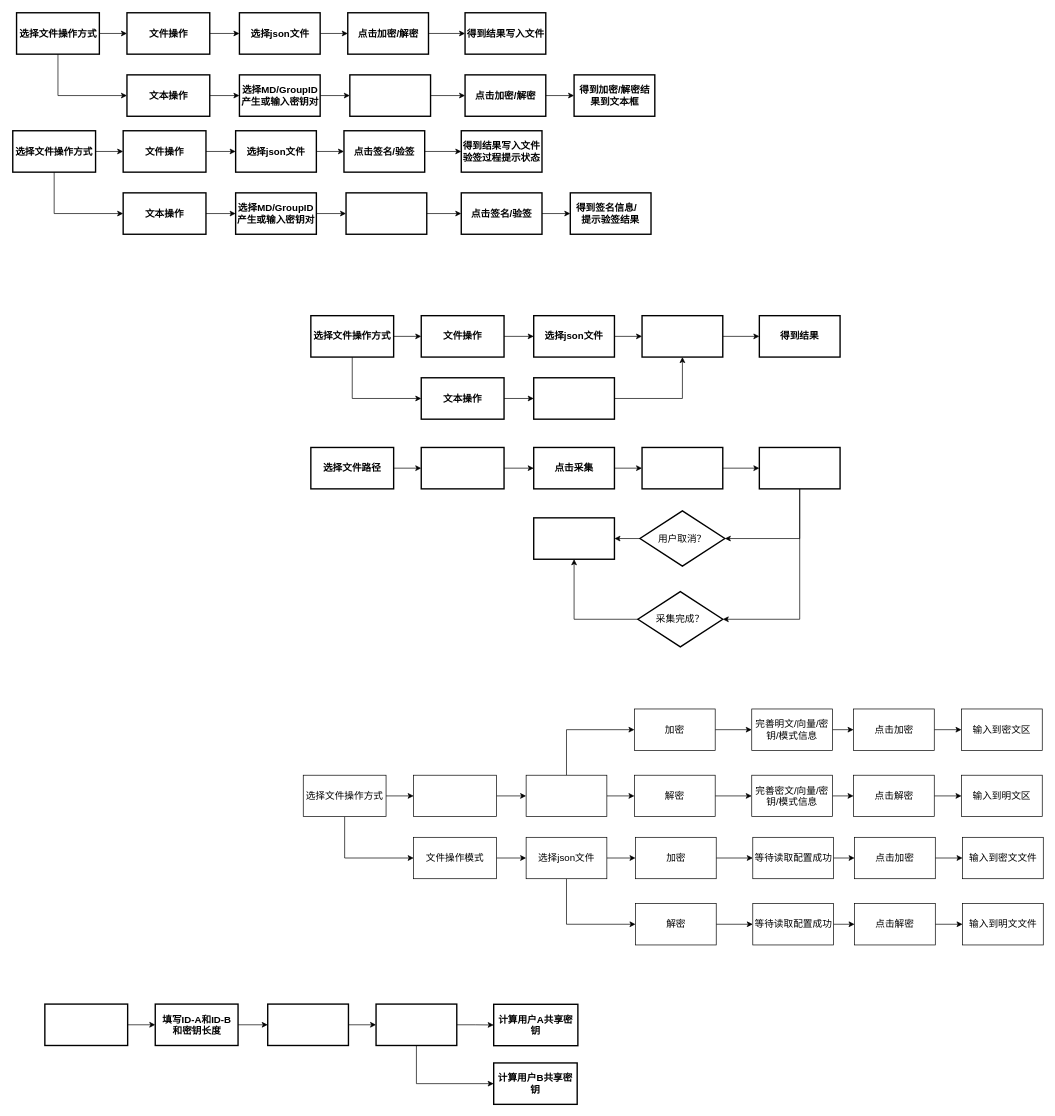
The diagram is 1055 pixels wide and 1116 high, and some of its shapes have lost their labels. The centre of each missing label's shape, as x and y in pixels:
"产生用户A两次密钥对" belongs at (308,1024).
"产生用户B两次密钥对" belongs at (416,1024).
"写入配置信息" belongs at (462,467).
"在UI进行配置信息" belongs at (566,796).
"弹出采集对话框对话框" belongs at (682,467).
"数据采集" belongs at (799,467).
"文本操作模式" belongs at (454,796).
"点击计算SM3哈希" belongs at (682,336).
"结束" belongs at (574,538).
"输入明文信息 或输入密文信息" belongs at (390,95).
"输入明文信息 或输入签名信息" belongs at (386,213).
"选择MD和GroupID" belongs at (86,1024).
"选择输入模式 文本框内输入信息" belongs at (574,398).
